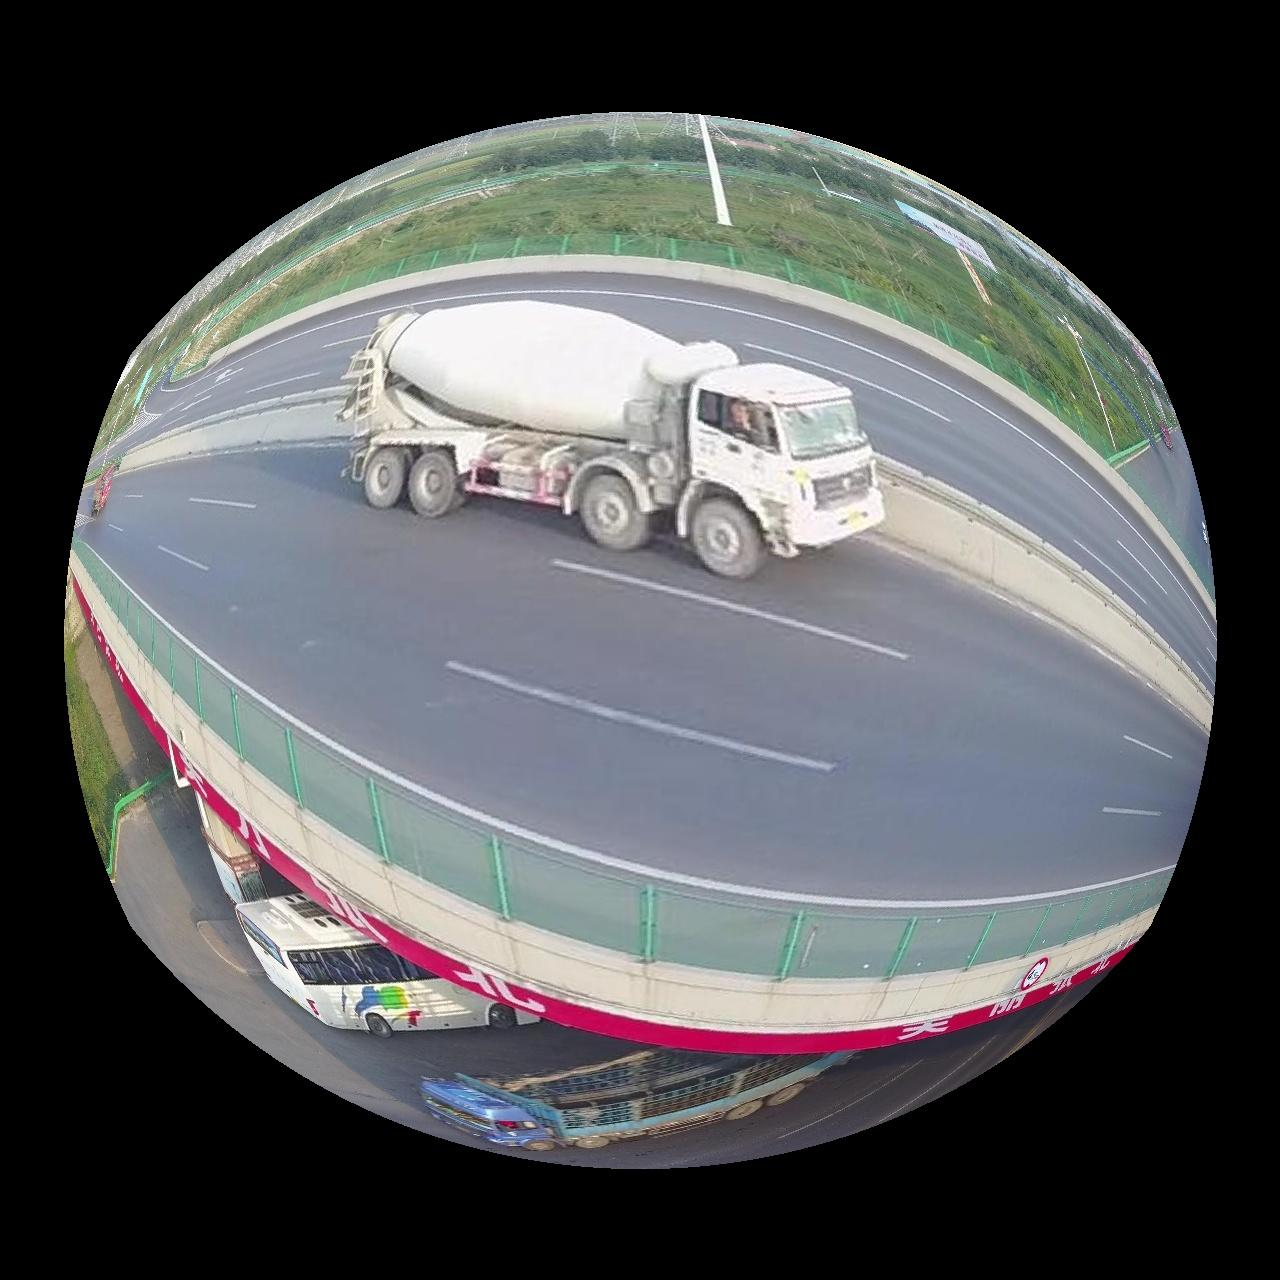cars: (339, 299, 886, 579), (418, 1050, 851, 1152), (236, 896, 537, 1040)
trees: (63, 588, 128, 871)
